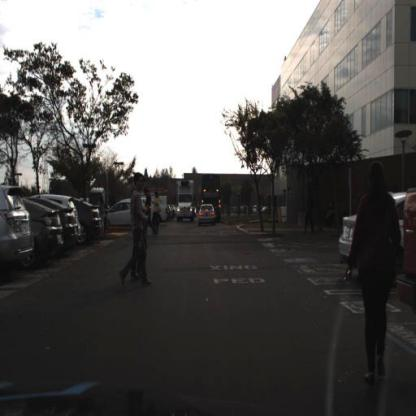car: (336, 187, 406, 282), (10, 198, 64, 270), (1, 183, 35, 272), (25, 192, 60, 270), (39, 192, 86, 250), (51, 198, 78, 270), (68, 191, 105, 238), (76, 197, 103, 245), (104, 198, 139, 227), (198, 205, 217, 230), (200, 205, 216, 226)
pedestrian: (344, 156, 406, 390), (123, 172, 154, 292), (304, 181, 316, 236), (312, 186, 323, 235), (306, 186, 315, 238), (144, 185, 153, 235), (145, 186, 153, 230), (154, 192, 160, 233), (155, 189, 160, 231)
truck: (200, 174, 221, 223), (175, 177, 196, 223), (201, 172, 223, 210), (176, 181, 194, 222)
